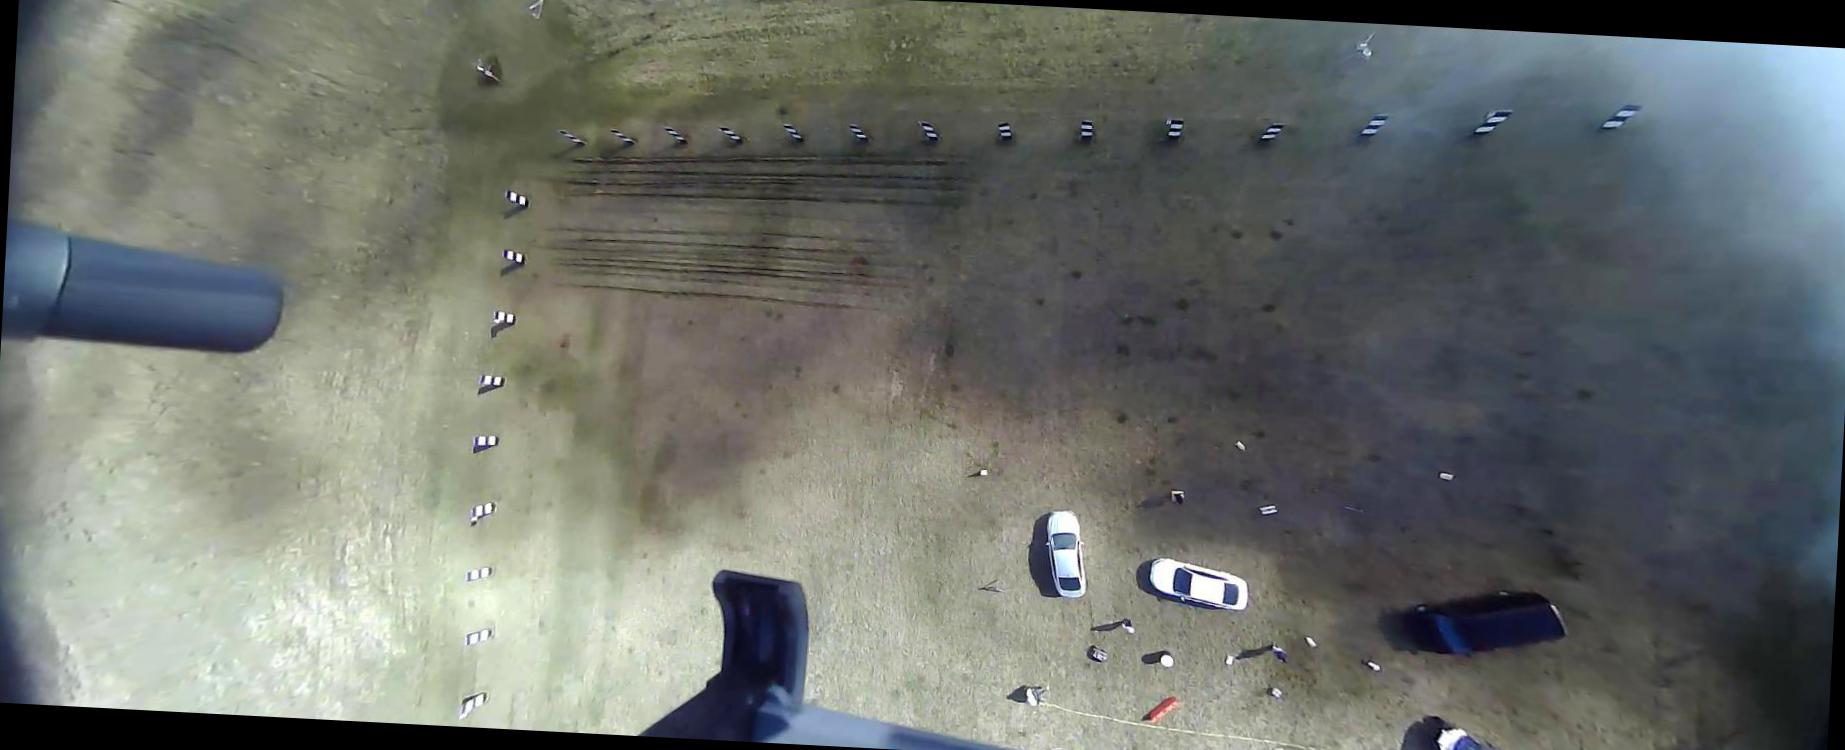vehicle: (1412, 585, 1572, 664), (1147, 557, 1251, 611), (1043, 507, 1092, 599), (1433, 724, 1523, 749)
